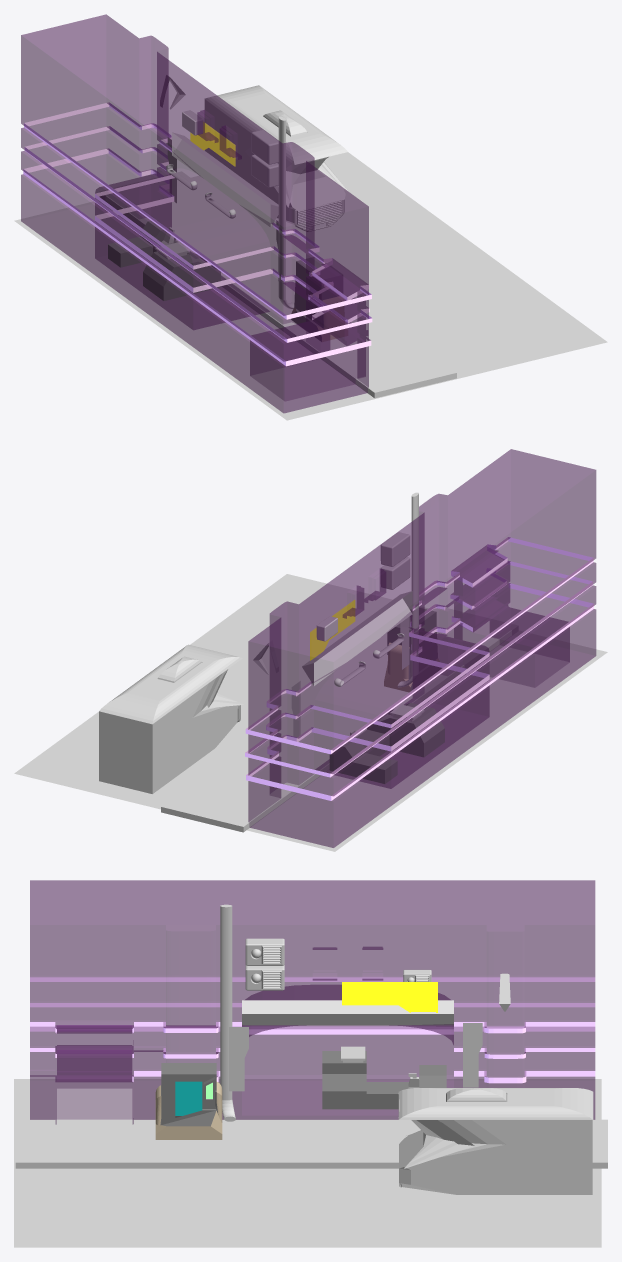
Rendered from streetcyb.fbx.
3 renders of one model, top to bottom at view 1: azimuth 30°, elevation 25°; view 2: azimuth 150°, elevation 25°; view 3: azimuth 270°, elevation 25°, orthographic. The views are drawn at different scales.
Parts seen in each view (by area): view 1: Plane.001, Plane, Plane.002, Plane.027, Plane.018, Plane.003, Plane.004, Plane.019, Cylinder, Plane.021, Plane.011, Plane.007 (+2 smaller); view 2: Plane.001, Plane, Plane.002, Plane.018, Plane.027, Plane.003, Plane.004, Cylinder, Plane.019, Plane.026, Plane.007, Plane.011 (+1 smaller); view 3: Plane.001, Plane, Plane.018, Plane.002, Plane.027, Plane.004, Plane.003, Plane.019, Cylinder, Plane.011, Plane.026, Plane.022 (+4 smaller).
Part boxes in pixels (box(x1,y1,x2,y2)): Plane.001: box(21, 14, 371, 413); Plane: box(14, 152, 607, 420); Plane.002: box(100, 171, 456, 398); Plane.027: box(23, 102, 372, 366); Plane.018: box(204, 85, 348, 230); Plane.003: box(108, 220, 220, 300); Plane.004: box(172, 132, 278, 227); Plane.019: box(291, 257, 342, 341); Cylinder: box(278, 116, 294, 308); Plane.021: box(294, 200, 343, 231); Plane.011: box(190, 122, 235, 166); Plane.007: box(251, 130, 278, 164); Plane.001: box(245, 449, 596, 847); Plane: box(14, 574, 607, 851); Plane.002: box(161, 608, 518, 832); Plane.018: box(99, 644, 243, 793); Plane.027: box(245, 537, 593, 800); Plane.003: box(329, 703, 444, 783); Plane.004: box(302, 591, 412, 685); Cylinder: box(397, 492, 418, 687); Plane.019: box(387, 608, 441, 690); Plane.026: box(384, 643, 439, 692); Plane.007: box(381, 532, 410, 566); Plane.011: box(310, 600, 355, 660); Plane.001: box(30, 880, 595, 1124); Plane: box(14, 1079, 601, 1247); Plane.018: box(398, 1088, 593, 1194); Plane.002: box(15, 1119, 607, 1168); Plane.027: box(30, 977, 595, 1083); Plane.004: box(242, 1000, 453, 1025); Plane.003: box(322, 1051, 446, 1109); Plane.019: box(160, 1063, 218, 1126); Cylinder: box(220, 904, 235, 1121); Plane.011: box(342, 982, 437, 1012); Plane.026: box(155, 1082, 222, 1139); Plane.022: box(229, 1027, 248, 1091).
Bounding box in the file's own units: 3307 × 2080 × 4925.
